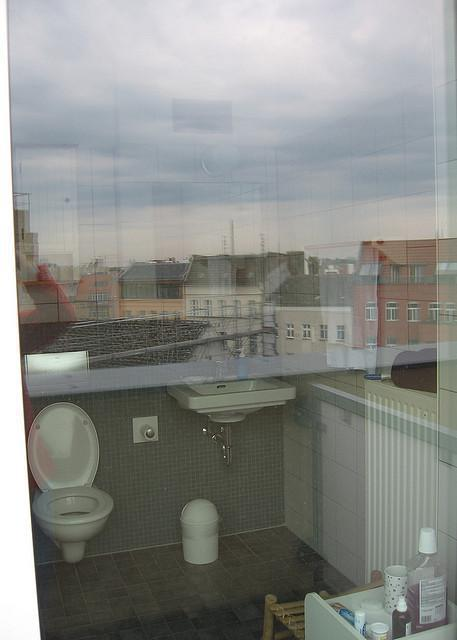Bote de Basura: (174, 499, 224, 564)
Lavamanos: (165, 344, 299, 418)
Sanitario: (25, 402, 122, 569)
